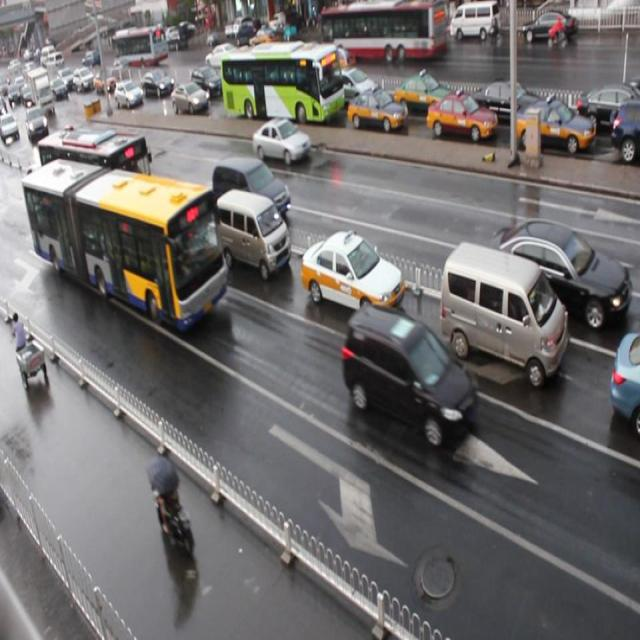car: (341, 301, 477, 448), (486, 219, 624, 331), (300, 229, 403, 321), (514, 100, 594, 160), (139, 188, 207, 252), (426, 91, 497, 145), (472, 79, 550, 127), (608, 330, 640, 433), (252, 118, 312, 170), (573, 86, 640, 132), (393, 71, 458, 116), (346, 88, 406, 134), (329, 62, 379, 103), (67, 127, 111, 172), (610, 100, 640, 161), (22, 159, 61, 204), (190, 64, 222, 102), (162, 82, 200, 114), (138, 69, 174, 96), (114, 81, 142, 106)
truck: (438, 240, 568, 389), (214, 187, 290, 282), (212, 155, 292, 233)
van: (21, 157, 228, 330), (38, 127, 154, 235), (216, 41, 339, 125)
